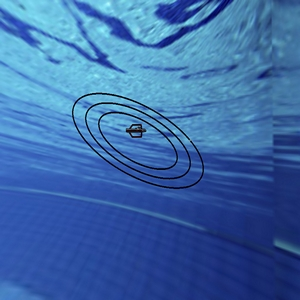circle: (55, 74, 213, 202)
submarine: (123, 117, 149, 146)
